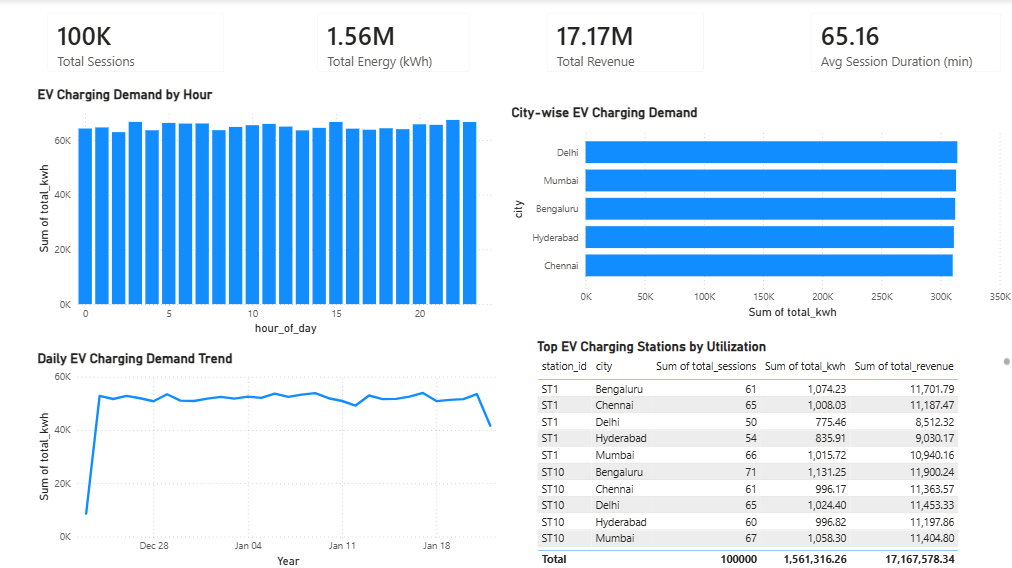

Layout of this report page (visuals, bound fields, positions):
{"tool":"powerbi","page":{"name":"Page 1","canvas":[1280,720],"ordinal":0},"visuals":[{"type":"cardVisual","fields":{"Data":["vw_city_demand.Total Sessions"]},"box":[43.5,0,257,109.6],"z":0},{"type":"cardVisual","fields":{"Data":["vw_city_demand.Total Revenue"]},"box":[672.8,0,232.4,109.6],"z":1},{"type":"cardVisual","fields":{"Data":["vw_city_demand.Avg Session Duration (min)"]},"box":[1005.4,0,274,109.6],"z":2},{"type":"cardVisual","fields":{"Data":["vw_city_demand.Total Energy (kWh)"]},"box":[383.6,0,226.8,109.6],"z":3},{"type":"clusteredColumnChart","title":"EV Charging Demand by Hour","fields":{"Y":["Sum(vw_peak_charging_hours.total_kwh)"],"Category":["vw_peak_charging_hours.hour_of_day"]},"box":[43.5,109.6,583.9,317.5],"z":4},{"type":"barChart","title":"City-wise EV Charging Demand","fields":{"Category":["vw_city_demand.city"],"Y":["Sum(vw_city_demand.total_kwh)"]},"box":[640.6,132.3,638.7,274],"z":5},{"type":"lineChart","title":"Daily EV Charging Demand Trend","fields":{"Y":["Sum(vw_daily_demand.total_kwh)"],"Category":["vw_daily_demand.session_date.Variation.Date Hierarchy.Year","vw_daily_demand.session_date.Variation.Date Hierarchy.Quarter","vw_daily_demand.session_date.Variation.Date Hierarchy.Month","vw_daily_demand.session_date.Variation.Date Hierarchy.Day"]},"box":[43.5,442.2,597.2,277.8],"z":6},{"type":"tableEx","title":"Top EV Charging Stations by Utilization","fields":{"Values":["vw_station_utilization.station_id","vw_station_utilization.city","Sum(vw_station_utilization.total_sessions)","Sum(vw_station_utilization.total_kwh)","Sum(vw_station_utilization.total_revenue)"]},"box":[672.8,427.1,606.6,292.9],"z":7}]}

Visuals, with their boxes in screenshot pixels (x1, y1, x2, y2), scaled from the page's 1280x720 canvas onto the 1012x568 screenshot:
cardVisual - vw_city_demand.Total Sessions: [x1=34, y1=0, x2=238, y2=86]
cardVisual - vw_city_demand.Total Revenue: [x1=532, y1=0, x2=716, y2=86]
cardVisual - vw_city_demand.Avg Session Duration (min): [x1=795, y1=0, x2=1011, y2=86]
cardVisual - vw_city_demand.Total Energy (kWh): [x1=303, y1=0, x2=483, y2=86]
"EV Charging Demand by Hour" clusteredColumnChart: [x1=34, y1=86, x2=496, y2=337]
"City-wise EV Charging Demand" barChart: [x1=506, y1=104, x2=1011, y2=321]
"Daily EV Charging Demand Trend" lineChart: [x1=34, y1=349, x2=507, y2=567]
"Top EV Charging Stations by Utilization" tableEx: [x1=532, y1=337, x2=1011, y2=567]
